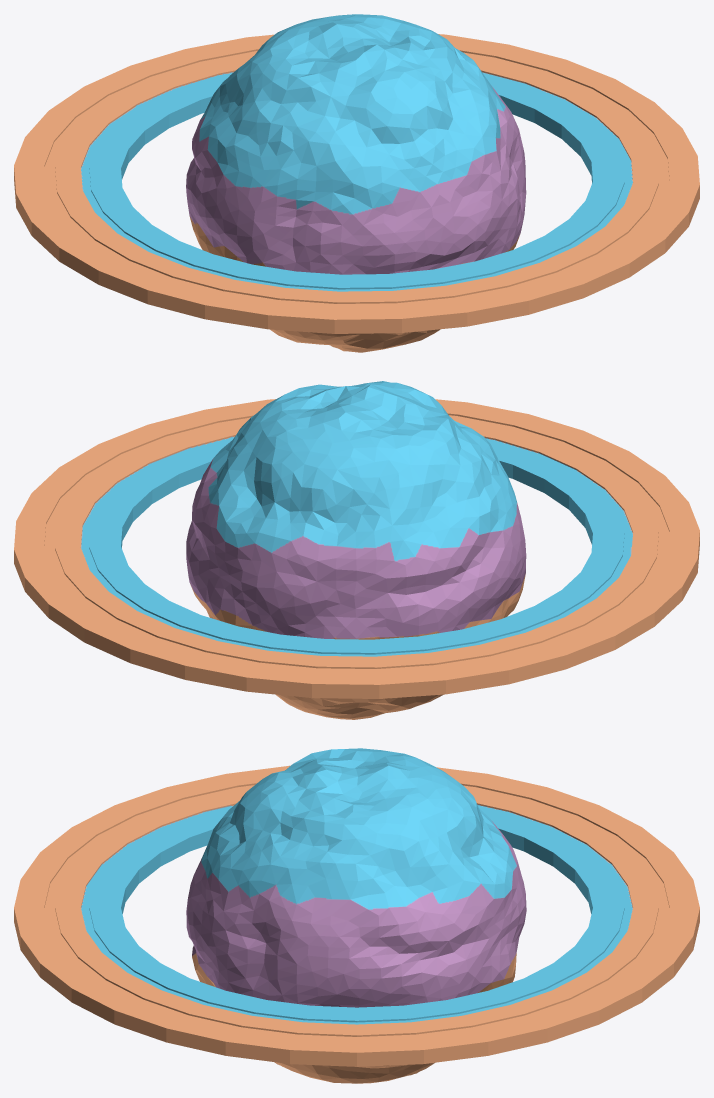
Rendered from saturn.gltf.
3 views of the same model, one above another, from view 1: azimuth 30°, elevation 25°; view 2: azimuth 150°, elevation 25°; view 3: azimuth 270°, elevation 25° (orthographic).
Visible parts, largest first — view 1: Saturn.001; view 2: Saturn.001; view 3: Saturn.001.
Part boxes in pixels (box(x1,y1,x2,y2)): Saturn.001: box(14, 14, 699, 352); Saturn.001: box(14, 381, 699, 719); Saturn.001: box(14, 748, 699, 1083).
Bounding box in the file's own units: 4.06 × 1.98 × 4.06.
Materials: 3 (3 with a texture image).
